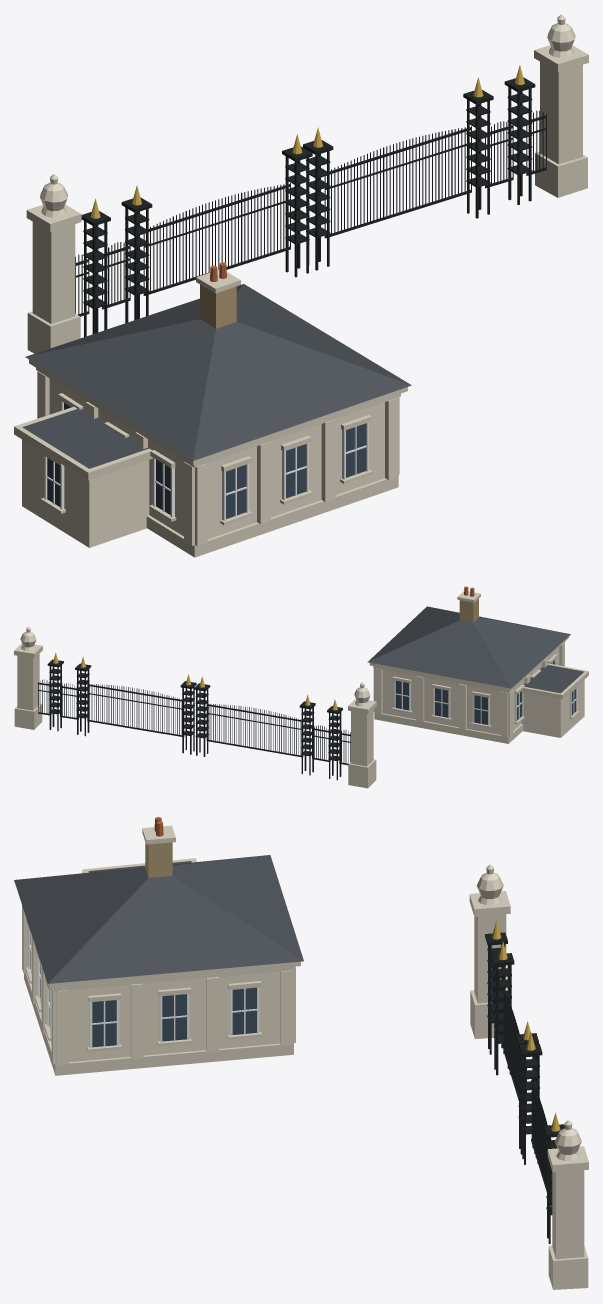
Rendered from victoria_gate_lodge.glb.
3 renders of one model, top to bottom at view 1: azimuth 30°, elevation 25°; view 2: azimuth 150°, elevation 25°; view 3: azimuth 270°, elevation 25°, orthographic. The views are drawn at different scales.
Bounding box in the file's own units: 30.4 × 8.29 × 21.12.
